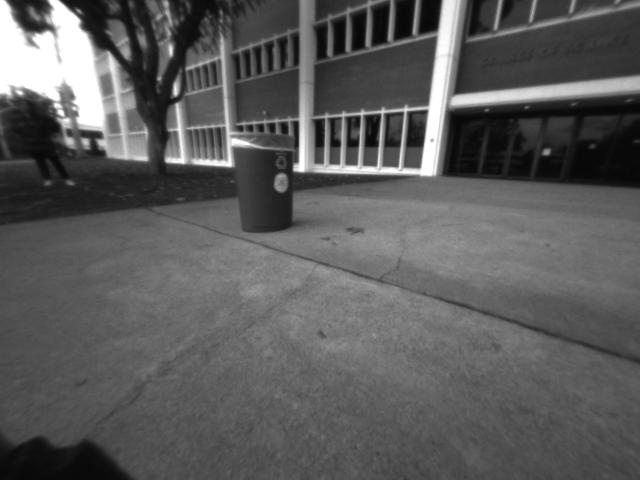trashcan_open: (228, 129, 301, 237)
